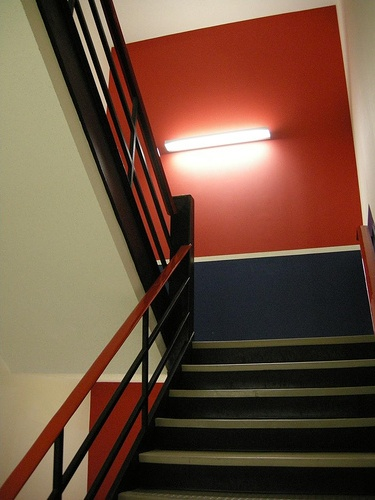stairs_up: (110, 339, 375, 500)
